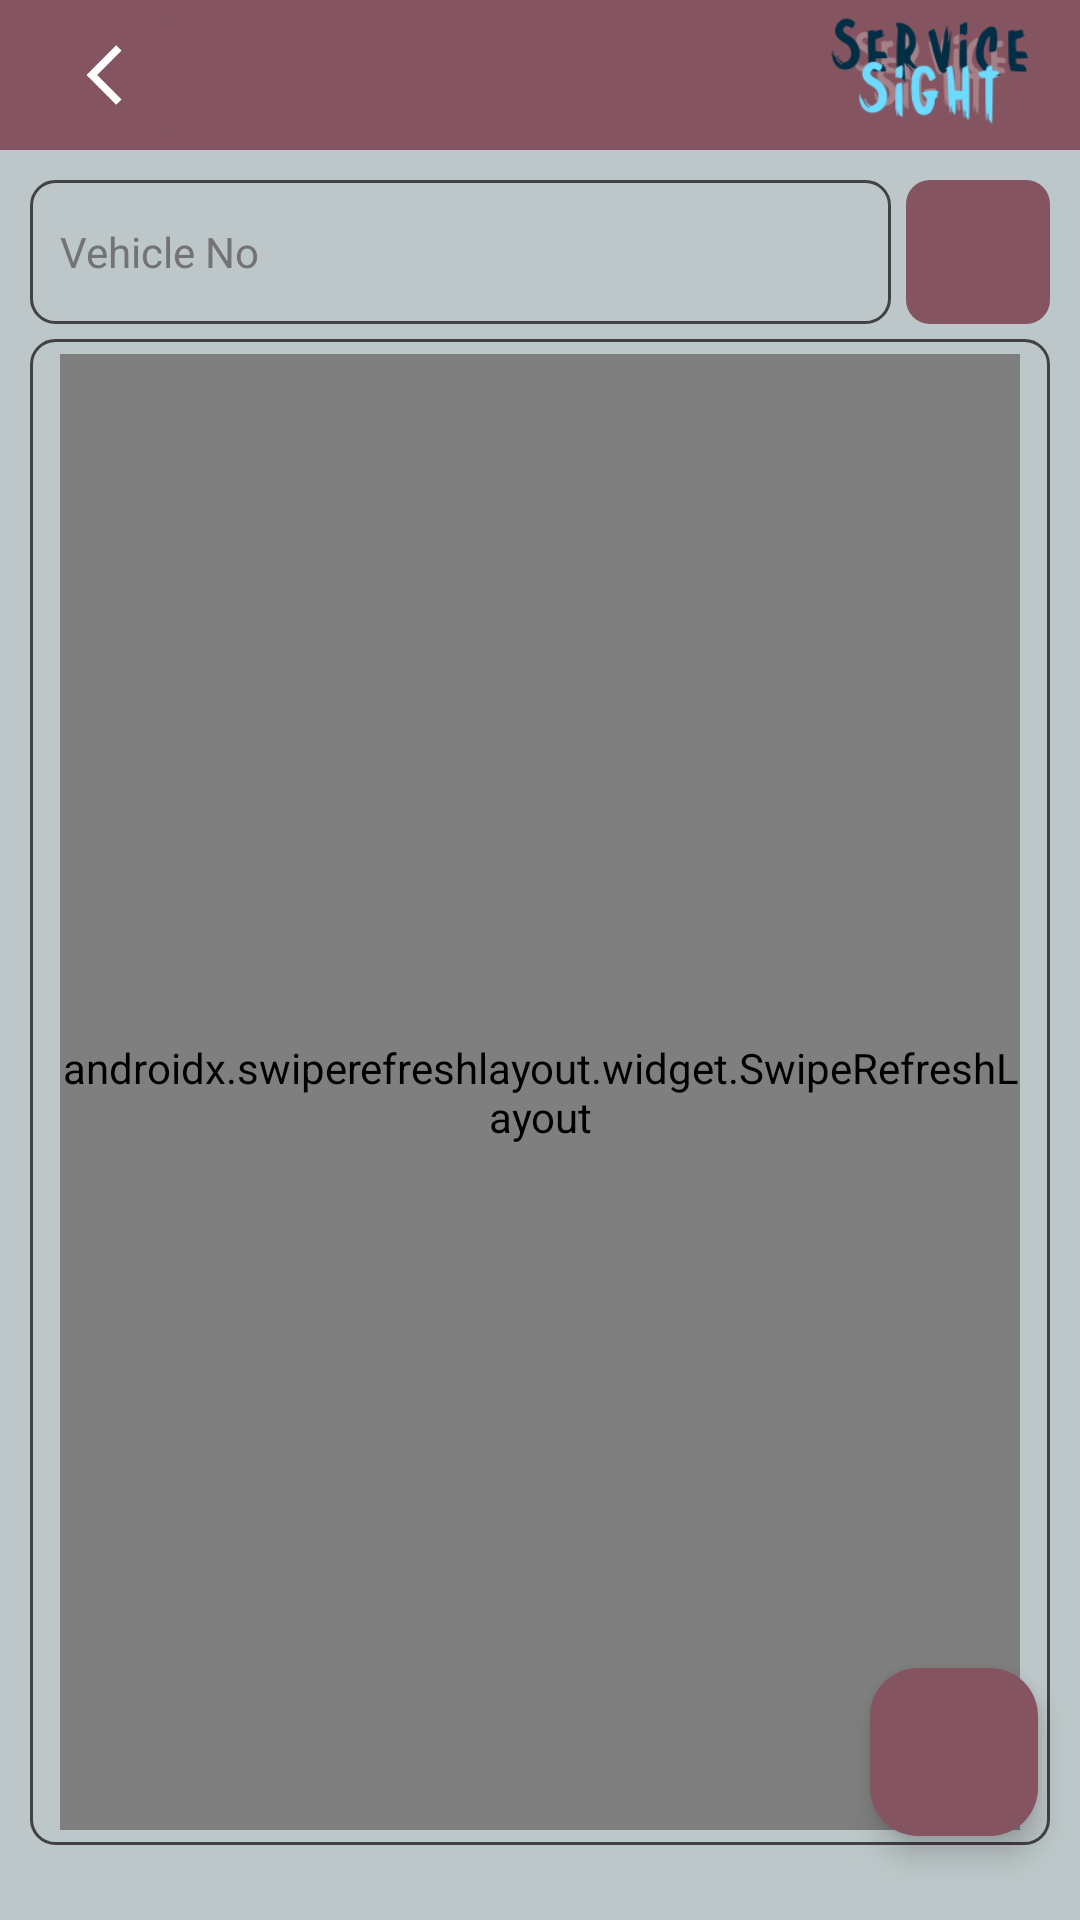

Named icons in this screenshot (1080px×1920px) and their bounding boxes, (x1, y1, x2, y2):
Back Icon: (87, 45, 122, 105)
